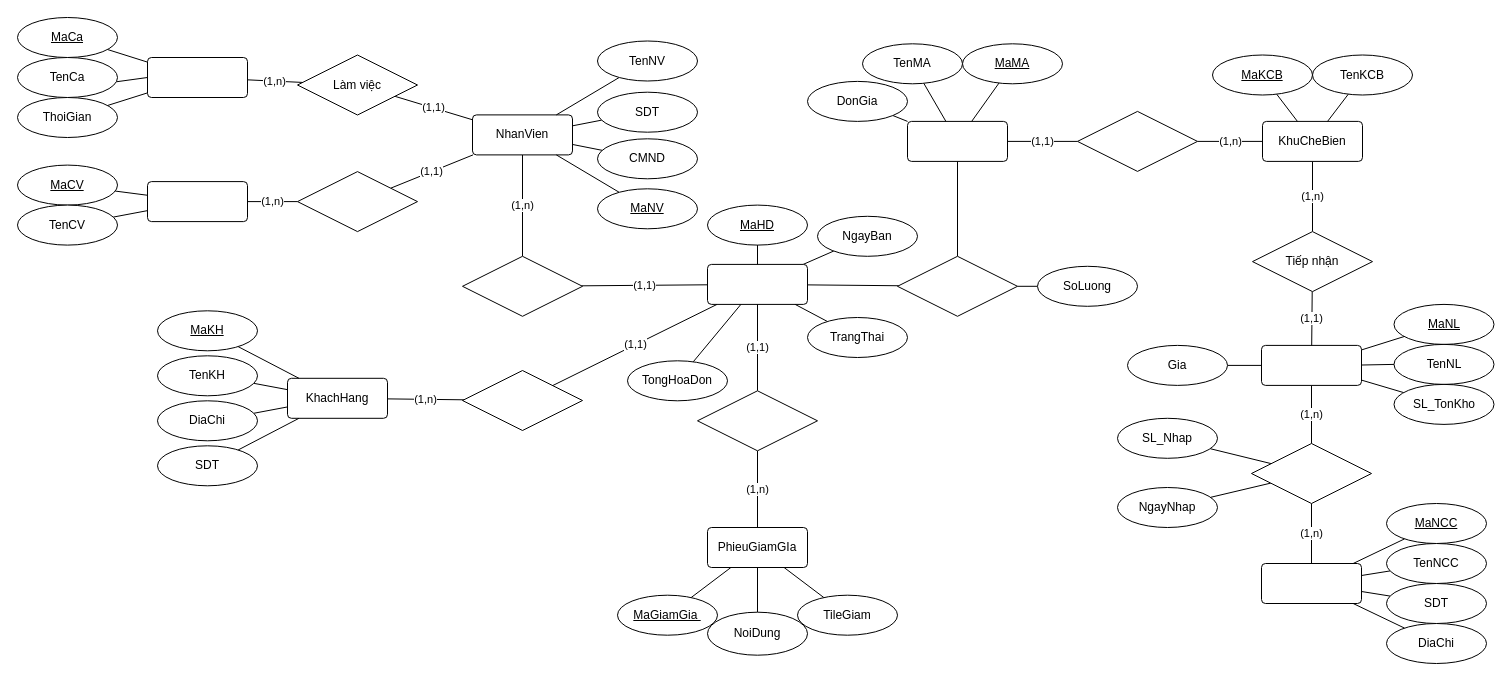
Some shapes in this 1512 by 681 pixel diagram are drawn without their labels. The centre of each missing label's shape, as x and y in pixels:
Bán: point 522,285
CaLamViec: point 197,77
ChucVu: point 197,201
CTCC: point 1311,473
CTHD: point 957,285
Có / Không: point 757,420
HoaDon: point 757,283
MonAn: point 957,140
NguyenLieu: point 1311,364
NhaCungCap: point 1311,583
Phân phối: point 1137,140
Thanh Toán: point 522,400
Thuộc về: point 357,201
